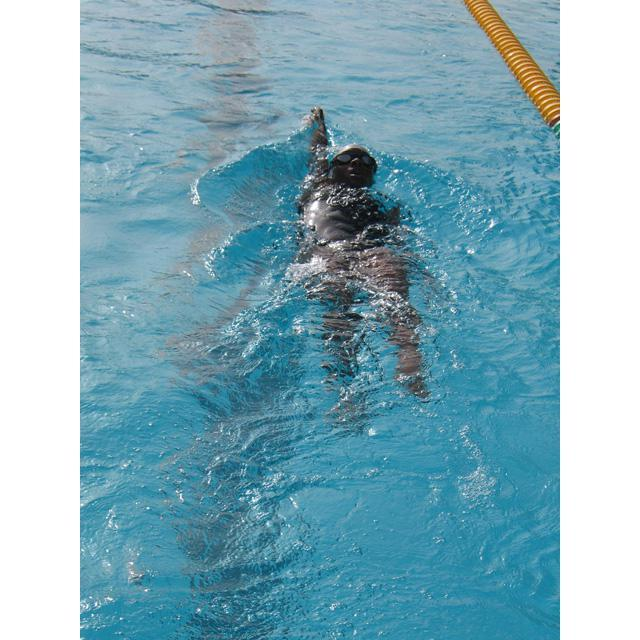human: (301, 105, 430, 431)
